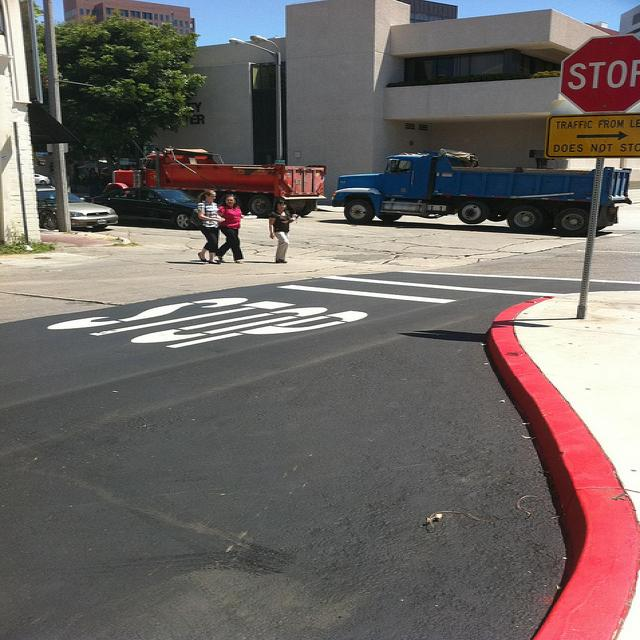Vehicle: (332, 146, 632, 238), (113, 146, 333, 218), (89, 185, 198, 230), (36, 185, 118, 230), (34, 173, 52, 185)
